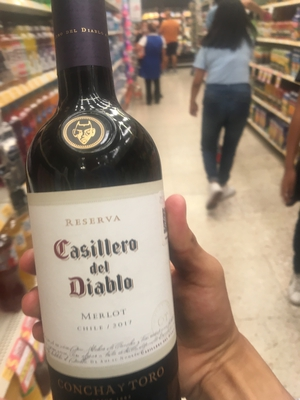casillero del diablo merlot: (25, 6, 186, 400)
